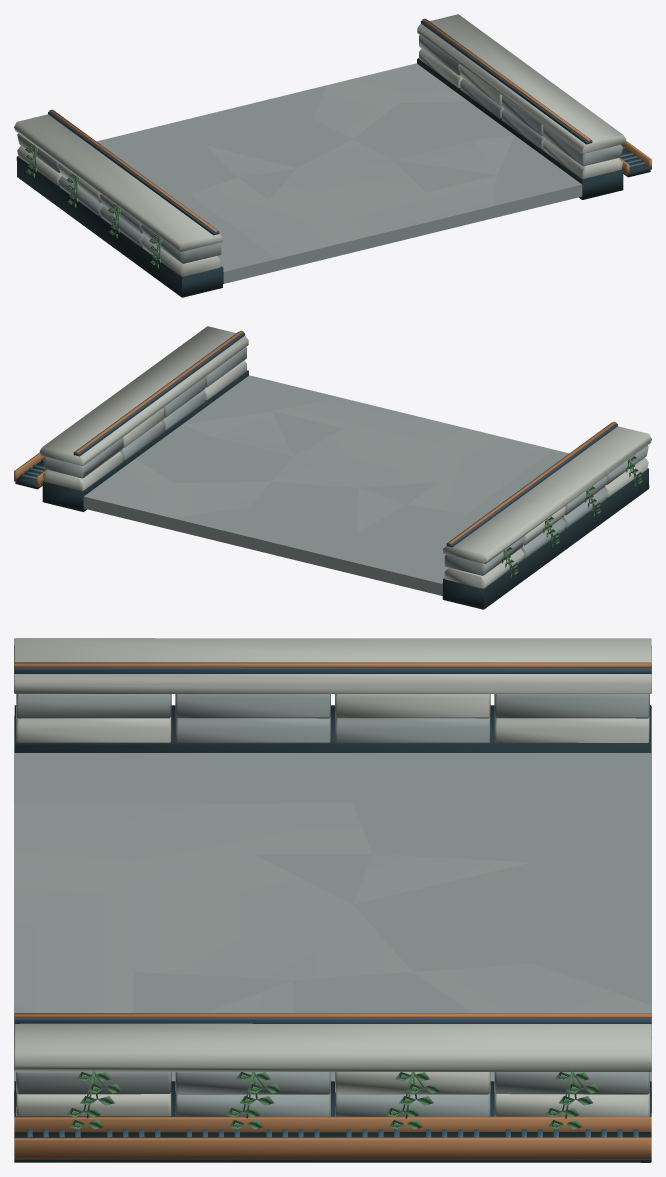
File: STURMBASTION_CORRIDOR_TILE.lo.glb
The picture shows the model from 3 angles, top to bottom: view 1: azimuth 30°, elevation 25°; view 2: azimuth 150°, elevation 25°; view 3: azimuth 270°, elevation 25°; orthographic projection. The views are drawn at different scales.
Parts seen in each view (by area): view 1: STURMBASTION_CORRIDOR_TILE_Geometry; view 2: STURMBASTION_CORRIDOR_TILE_Geometry; view 3: STURMBASTION_CORRIDOR_TILE_Geometry.
Part boxes in pixels (box(x1,y1,x2,y2)): STURMBASTION_CORRIDOR_TILE_Geometry: box(14, 14, 651, 297); STURMBASTION_CORRIDOR_TILE_Geometry: box(14, 326, 651, 609); STURMBASTION_CORRIDOR_TILE_Geometry: box(14, 638, 651, 1162).
Bounding box in the file's own units: 13.35 × 1.57 × 8.
